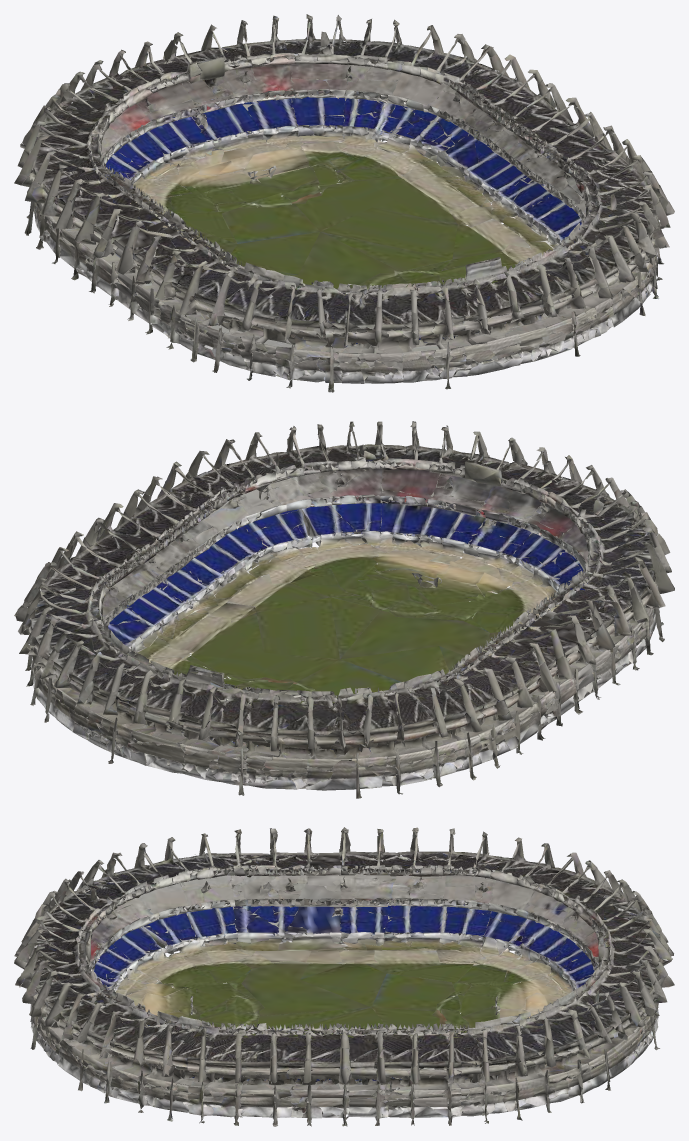
The model's file is metropolitano.glb.
The picture shows the model from 3 angles, top to bottom: view 1: azimuth 30°, elevation 25°; view 2: azimuth 150°, elevation 25°; view 3: azimuth 270°, elevation 25°; orthographic projection. The views are drawn at different scales.
Parts seen in each view (by area): view 1: mesh_node; view 2: mesh_node; view 3: mesh_node.
Part boxes in pixels (x1,y1,x2,y2): mesh_node: (14,14,674,392); mesh_node: (14,421,674,798); mesh_node: (14,827,674,1126).
Size of the model in its own units: 1.56 by 0.2937 by 1.91.
1 material, 1 textured.
